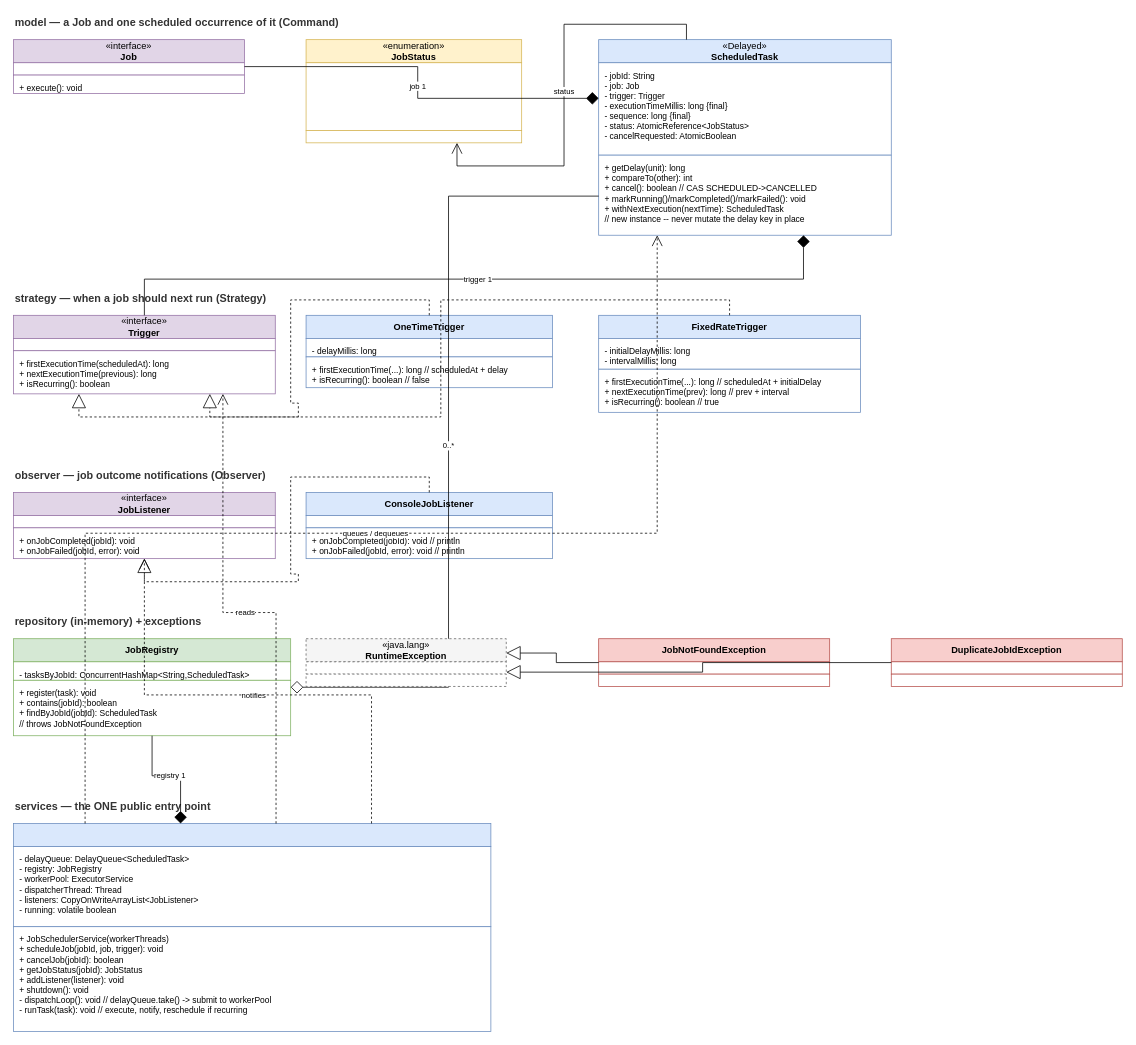
The diagram is 1136 pixels wide and 1045 high, and some of its shapes have lost their labels. Here are the shapes that lost their labels. From the top down, the box of each, then its label:
(305, 62, 522, 131): SCHEDULED RUNNING COMPLETED FAILED CANCELLED
(13, 823, 491, 847): JobSchedulerService
